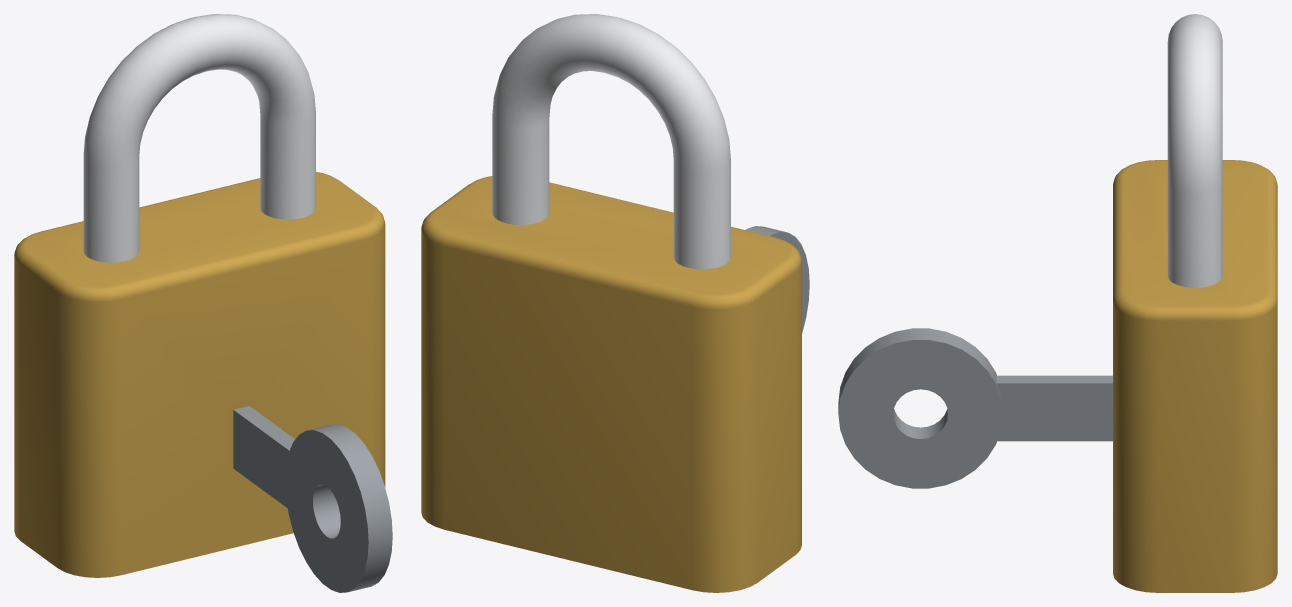
The model's file is padlock.glb.
3 views of the same model, side by side, from view 1: azimuth 30°, elevation 25°; view 2: azimuth 150°, elevation 25°; view 3: azimuth 270°, elevation 25° (orthographic). The views are drawn at different scales.
Visible parts, largest first — view 1: body, shackle, blade; view 2: body, shackle, blade; view 3: body, blade, shackle.
Part boxes in pixels (<box>): body: <box>14,172,385,577</box>; shackle: <box>83,14,315,262</box>; blade: <box>233,406,392,592</box>; body: <box>421,176,801,592</box>; shackle: <box>492,14,730,269</box>; blade: <box>745,226,809,333</box>; body: <box>1113,160,1277,592</box>; blade: <box>838,328,1112,488</box>; shackle: <box>1167,14,1222,287</box>.
Bounding box in the file's own units: 0.04 × 0.059 × 0.048.
